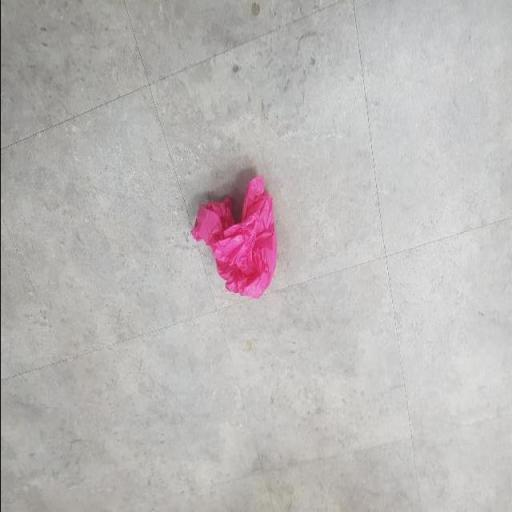plastic-bag: (188, 176, 282, 302)
